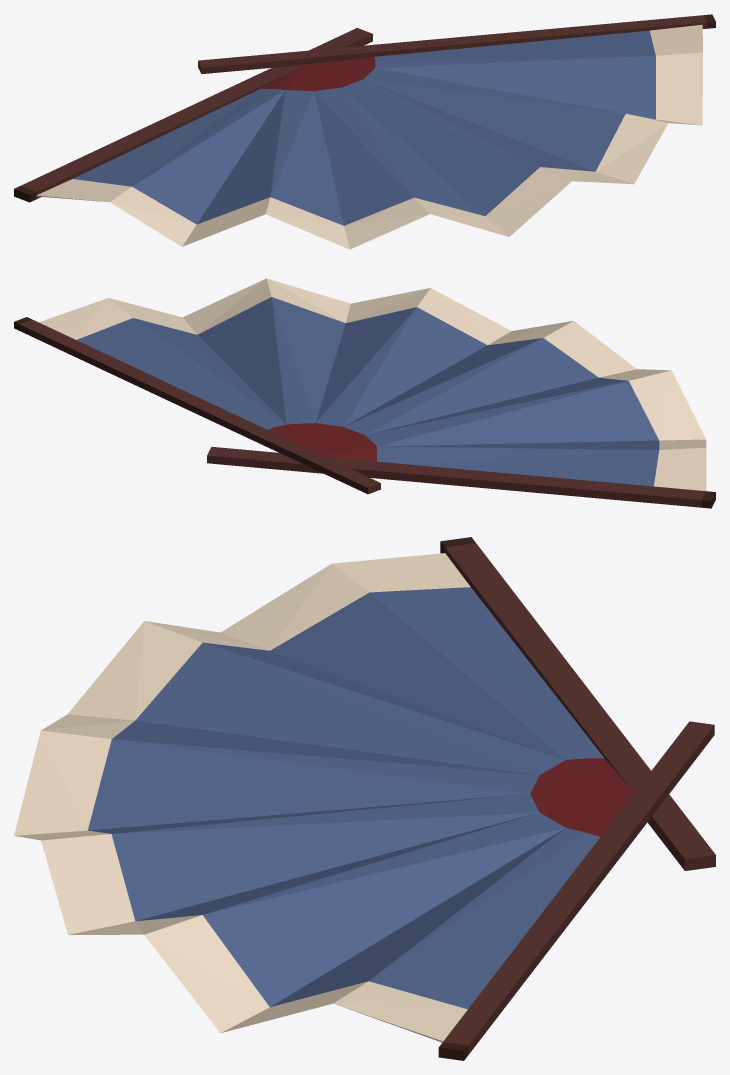
Rendered from Fan_1  Asia.fbx.
The picture shows the model from 3 angles, top to bottom: view 1: azimuth 30°, elevation 25°; view 2: azimuth 150°, elevation 25°; view 3: azimuth 270°, elevation 25°; orthographic projection. The views are drawn at different scales.
Parts seen in each view (by area): view 1: Fan_1; view 2: Fan_1; view 3: Fan_1.
Boxes of the visible parts, <box> form: Fan_1: <box>14,14,715,249</box>; Fan_1: <box>14,278,715,508</box>; Fan_1: <box>14,537,715,1060</box>.
Bounding box in the file's own units: 0.3313 × 0.0195 × 0.1876.
